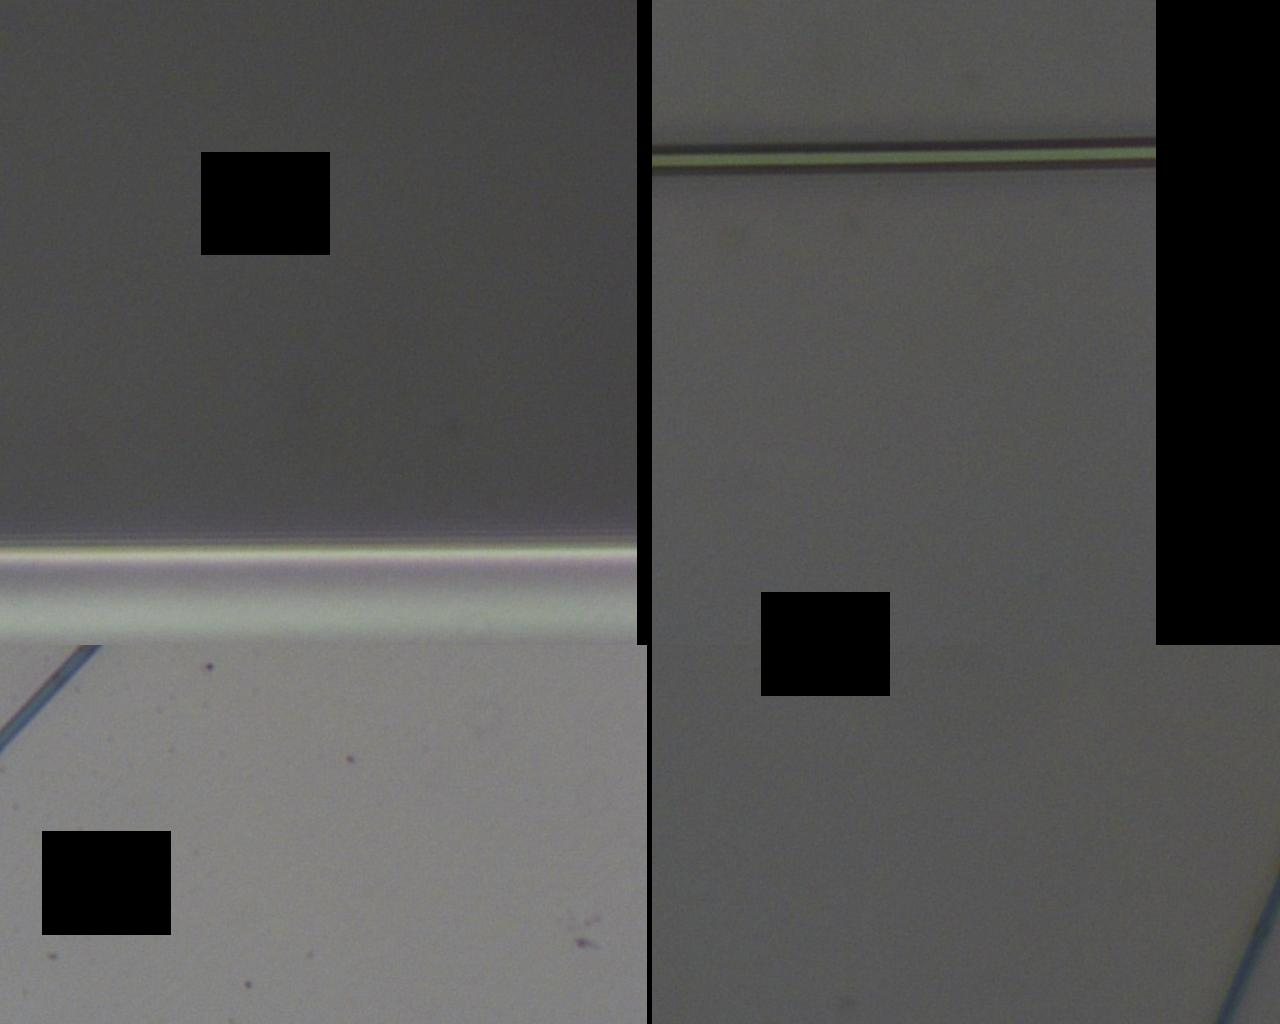fiber: (0, 127, 1279, 1024)
